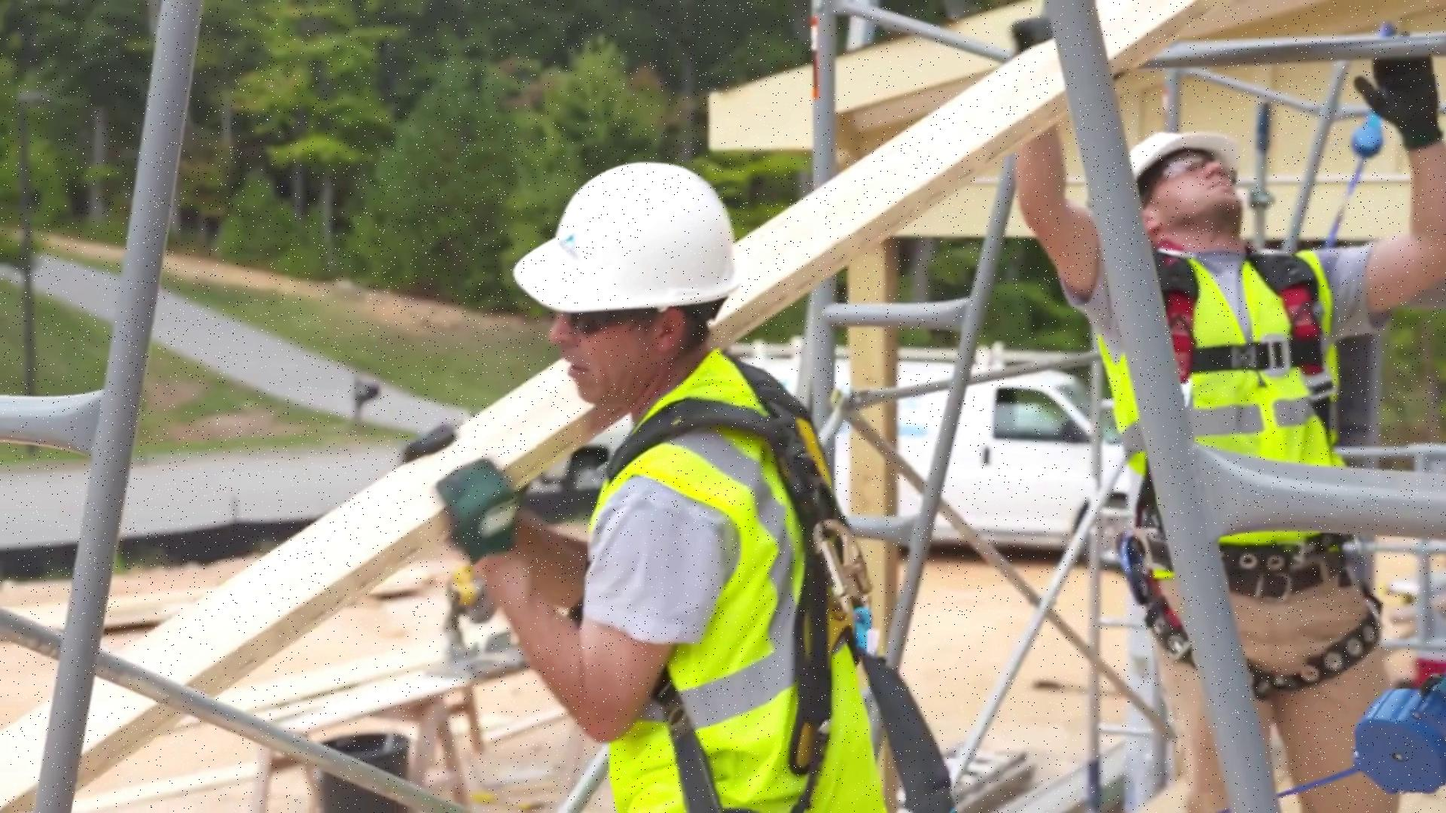Hard_hat: (515, 154, 738, 313)
Vest: (589, 357, 881, 813), (1102, 266, 1358, 544)
